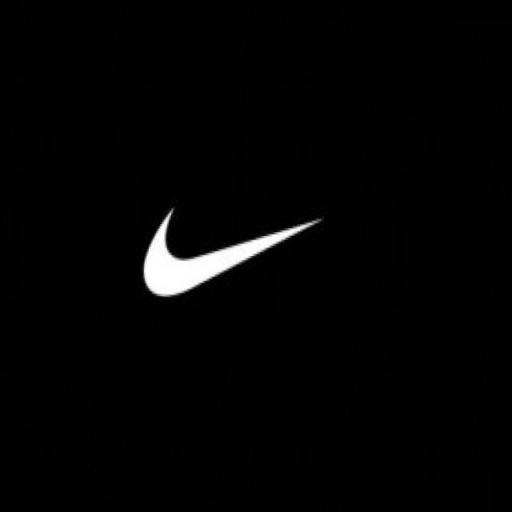Nike: (135, 187, 325, 316)
